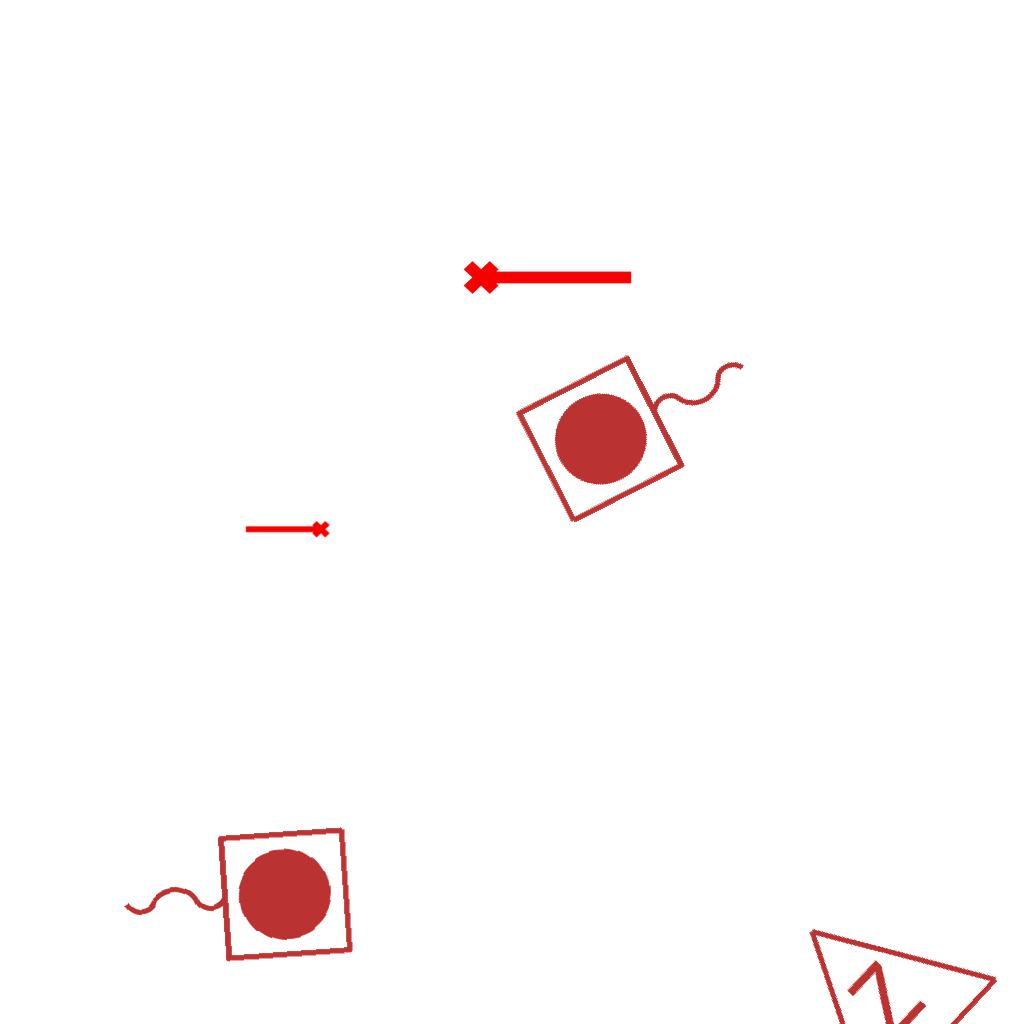ASR_Ansaugoeffnung: (461, 252, 637, 298), (243, 519, 331, 542)
Zimmersignalleuchte: (732, 851, 1012, 1024)
Zugtaster: (504, 298, 788, 538), (108, 815, 362, 977)
